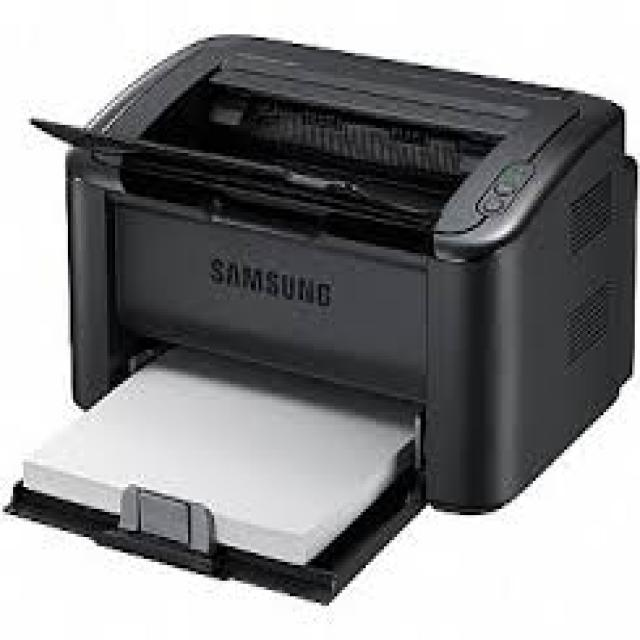printer: (5, 26, 640, 612)
